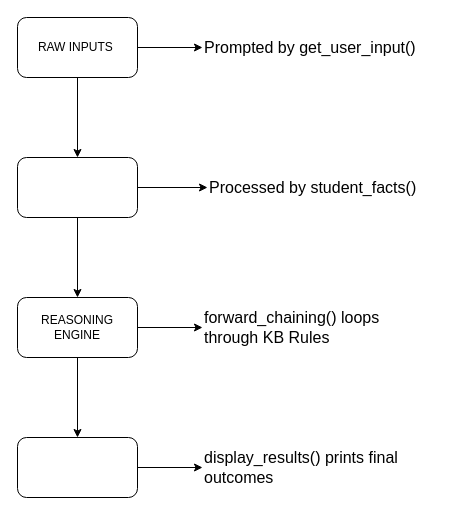
Image size: 460x515. Some labels were removed from this diagram. The centre of each missing label's shape, as x and y in pixels:
"FACT EXTRACTION" belongs at [77,187].
"OUTPUT FACILITY" belongs at [77,467].
